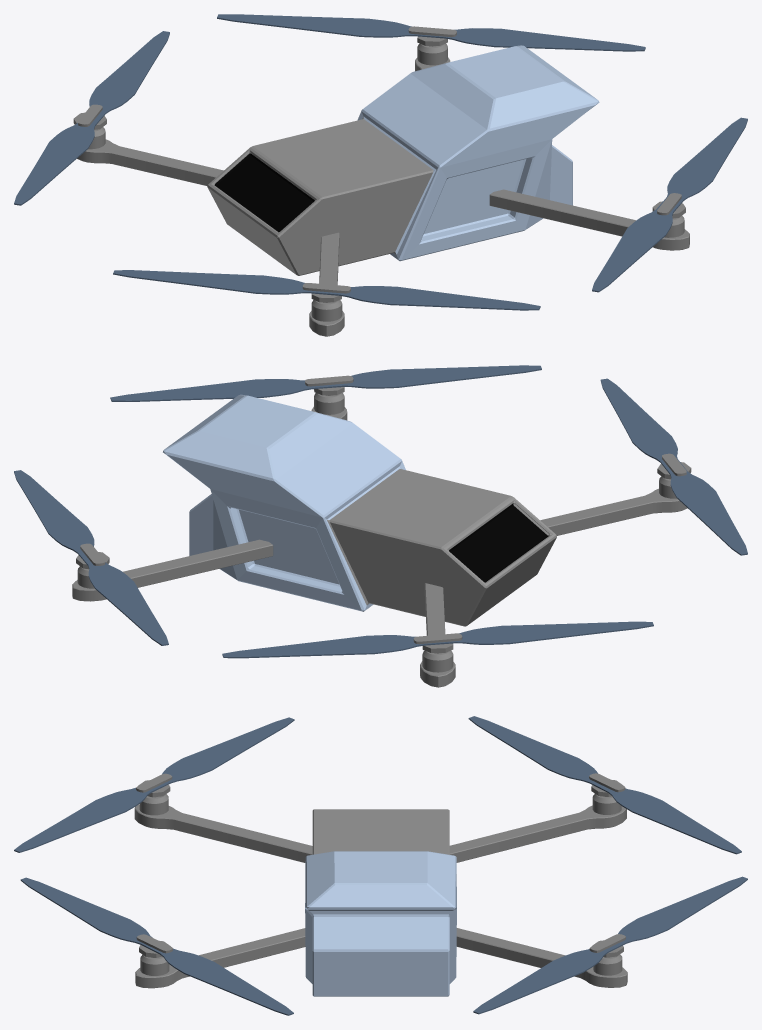
File: Drone.fbx
3 views of the same model, one above another, from view 1: azimuth 30°, elevation 25°; view 2: azimuth 150°, elevation 25°; view 3: azimuth 270°, elevation 25° (orthographic). The views are drawn at different scales.
Visible parts, largest first — view 1: Body, Legs, Propellor3, Propellor3.002, Propellor3.001, Propellor3.003; view 2: Body, Legs, Propellor3.003, Propellor3.001, Propellor3.002, Propellor3; view 3: Body, Legs, Propellor3.002, Propellor3.003, Propellor3, Propellor3.001.
Boxes of the visible parts, x1,y1,x2,y2 form: Body: [207, 45, 599, 275]; Legs: [73, 26, 689, 336]; Propellor3: [113, 270, 540, 310]; Propellor3.002: [217, 14, 645, 51]; Propellor3.001: [592, 117, 747, 292]; Propellor3.003: [14, 31, 169, 205]; Body: [163, 394, 556, 626]; Legs: [72, 375, 691, 687]; Propellor3.003: [222, 621, 653, 658]; Propellor3.001: [110, 365, 541, 401]; Propellor3.002: [14, 470, 168, 645]; Propellor3: [600, 378, 747, 555]; Body: [305, 809, 456, 996]; Legs: [134, 773, 627, 988]; Propellor3.002: [473, 876, 747, 1014]; Propellor3.003: [468, 716, 741, 854]; Propellor3: [14, 717, 294, 852]; Propellor3.001: [20, 877, 293, 1015].
Size of the model in its own units: 4794 by 907 by 4979.
